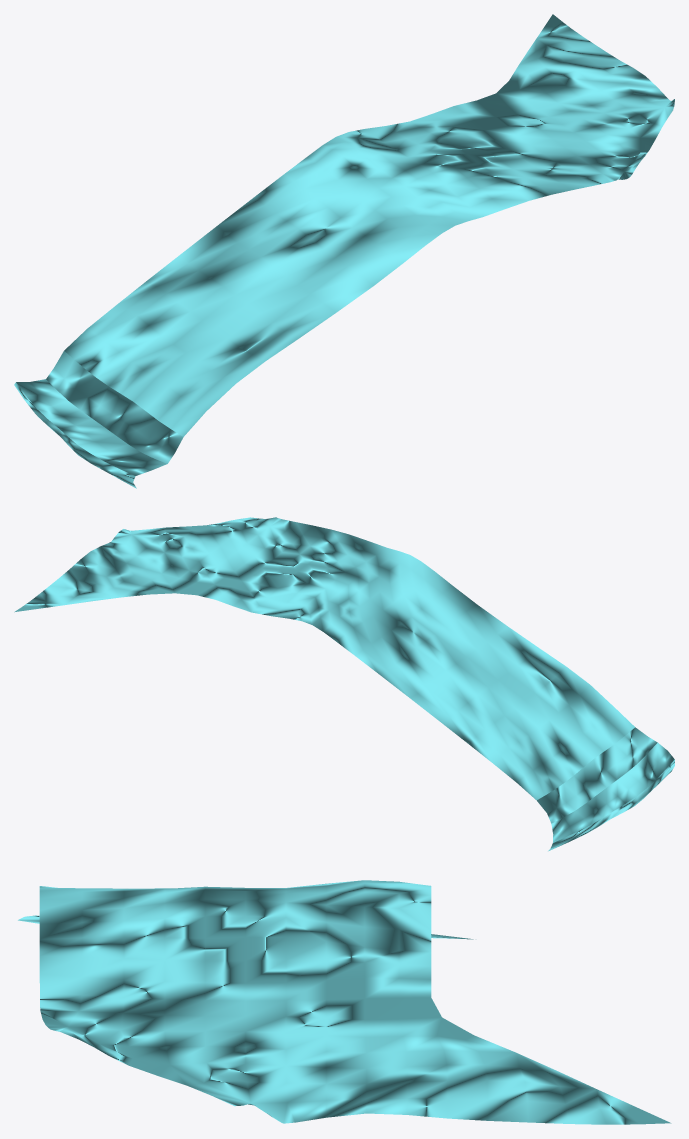
The model's file is planter_soil_corner_c.glb.
3 views of the same model, one above another, from view 1: azimuth 30°, elevation 25°; view 2: azimuth 150°, elevation 25°; view 3: azimuth 270°, elevation 25° (orthographic). The views are drawn at different scales.
Size of the model in its own units: 14.54 by 4.45 by 8.1.
